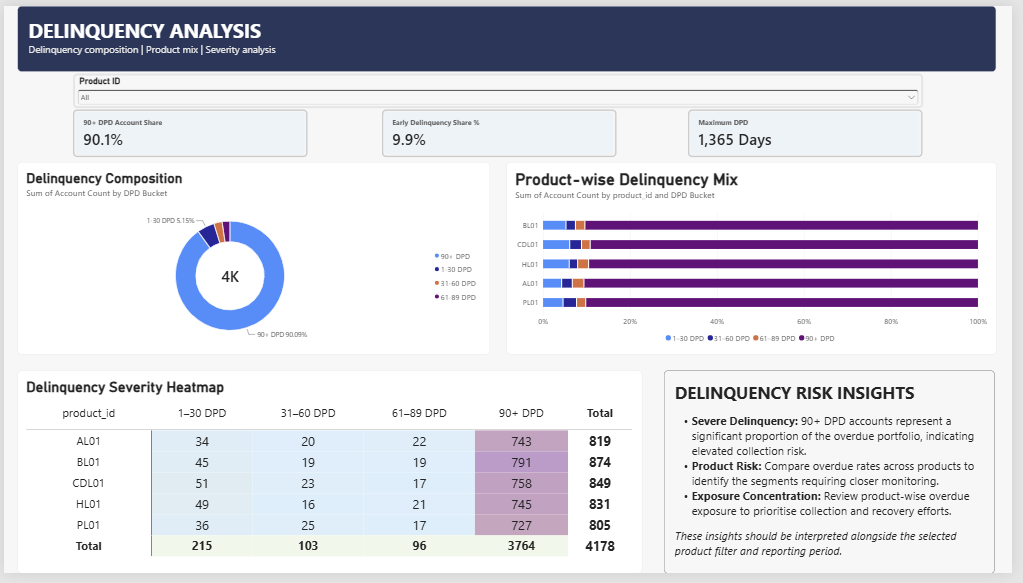

What the dashboard file says about the page in this screenshot:
{"tool":"powerbi","page":{"name":"Delinquency Analysis","canvas":[1920,1080],"ordinal":2},"visuals":[{"type":"donutChart","title":"Delinquency Composition","fields":{"Category":["dpd_bucket_distribution.DPD Bucket"],"Y":["Sum(dpd_bucket_distribution.Account Count)"]},"box":[26.7,296.7,900,366.7],"z":0},{"type":"textbox","box":[25,0,1864.3,125],"z":1000},{"type":"hundredPercentStackedBarChart","title":"Product-wise Delinquency Mix","fields":{"Category":["product_dpd_distribution.product_id"],"Series":["product_dpd_distribution.DPD Bucket"],"Y":["Sum(product_dpd_distribution.Account Count)"]},"box":[956.7,296.7,933.3,366.7],"z":2000},{"type":"pivotTable","title":"Delinquency Severity Heatmap","fields":{"Columns":["product_dpd_distribution.DPD Bucket"],"Rows":["product_dpd_distribution.product_id"],"Values":["Sum(product_dpd_distribution.Account Count)"]},"box":[26.7,693.3,1190,386.7],"z":3000},{"type":"slicer","fields":{"Values":["product_dpd_distribution.product_id"]},"box":[131.9,129.8,1619.1,66],"z":4000},{"type":"cardVisual","fields":{"Data":["dpd_bucket_distribution.90+ DPD Account %"]},"box":[131.9,197.9,446.9,90.6],"z":5000},{"type":"cardVisual","fields":{"Data":["product_dpd_distribution.Early Delinquency Share %"]},"box":[719.1,197.9,446.9,90.6],"z":6000},{"type":"cardVisual","fields":{"Data":["dpd_bucket_distribution.Maximum DPD Display"]},"box":[1304.3,197.9,446.9,90.6],"z":7000},{"type":"textbox","box":[1256.7,693.3,630,386.7],"z":8000}]}

Visuals, with their boxes in screenshot pixels (x1, y1, x2, y2), scaled from the page's 1920x1080 canvas onto the 1023x583 screenshot:
"Delinquency Composition" donutChart: select_region(14, 160, 494, 358)
textbox: select_region(13, 0, 1007, 67)
"Product-wise Delinquency Mix" hundredPercentStackedBarChart: select_region(510, 160, 1007, 358)
"Delinquency Severity Heatmap" pivotTable: select_region(14, 374, 648, 582)
slicer - product_dpd_distribution.product_id: select_region(70, 70, 933, 106)
cardVisual - dpd_bucket_distribution.90+ DPD Account %: select_region(70, 107, 308, 156)
cardVisual - product_dpd_distribution.Early Delinquency Share %: select_region(383, 107, 621, 156)
cardVisual - dpd_bucket_distribution.Maximum DPD Display: select_region(695, 107, 933, 156)
textbox: select_region(670, 374, 1005, 582)
